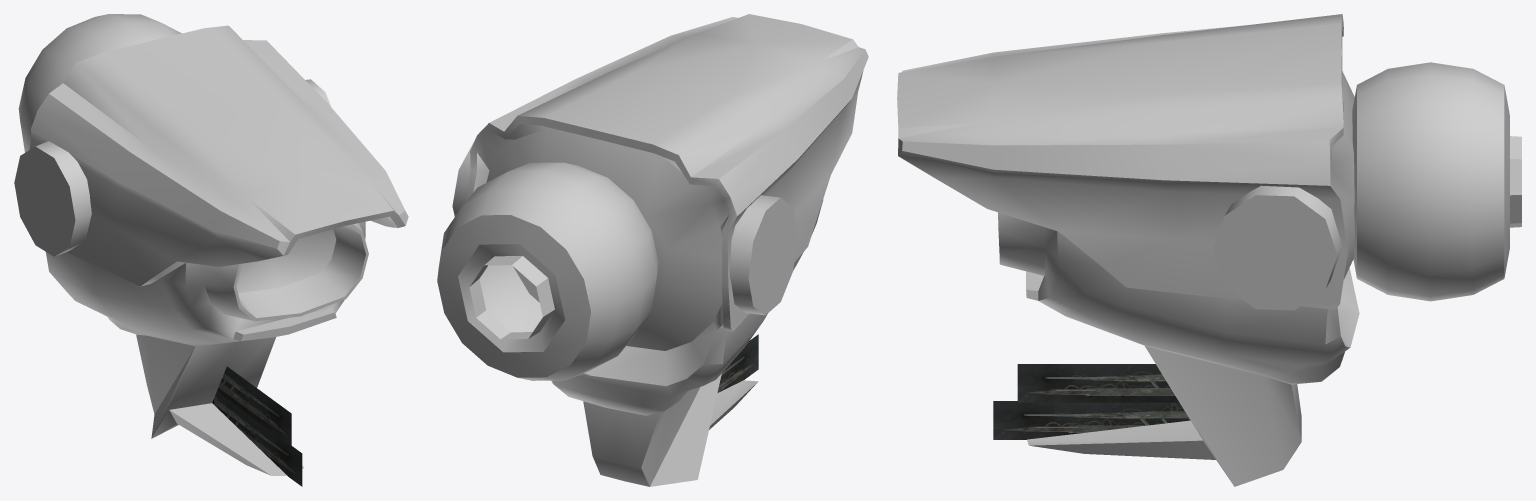
The model's file is Small_s02_p006.FBX.
The picture shows the model from 3 angles, left to right: view 1: azimuth 30°, elevation 25°; view 2: azimuth 150°, elevation 25°; view 3: azimuth 270°, elevation 25°; orthographic projection. The views are drawn at different scales.
Visible parts, largest first — view 1: Small_s02_p006; view 2: Small_s02_p006; view 3: Small_s02_p006.
Boxes of the visible parts, x1,y1,x2,y2 form: Small_s02_p006: (14, 14, 408, 486); Small_s02_p006: (437, 14, 868, 486); Small_s02_p006: (897, 14, 1521, 486).
Bounding box in the file's own units: 391 × 470 × 653.
